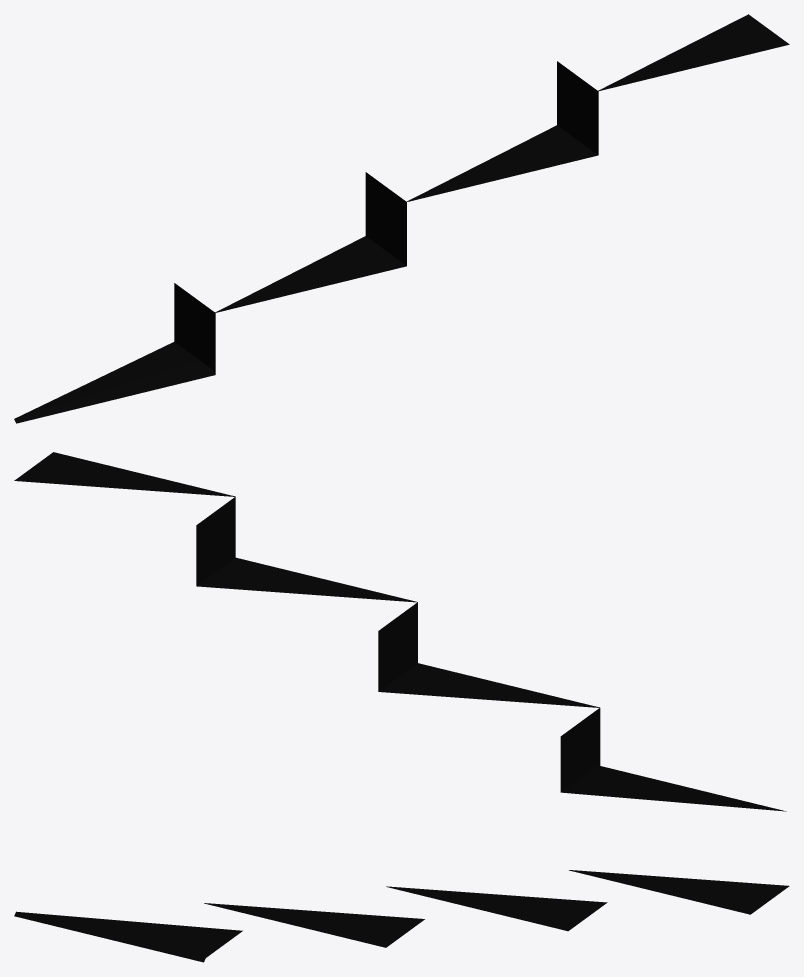
3 renders of one model, top to bottom at view 1: azimuth 30°, elevation 25°; view 2: azimuth 150°, elevation 25°; view 3: azimuth 330°, elevation 25°, orthographic. The views are drawn at different scales.
Visible parts, largest first — view 1: Joint_0_Object_0; view 2: Joint_0_Object_0; view 3: Joint_0_Object_0.
Part boxes in pixels (x1=…): Joint_0_Object_0: x1=14, y1=14, x2=789, y2=423; Joint_0_Object_0: x1=14, y1=452, x2=786, y2=811; Joint_0_Object_0: x1=14, y1=870, x2=789, y2=962.
Bounding box in the file's own units: 3902 × 917 × 362.
Materials: 1 (1 with a texture image).
